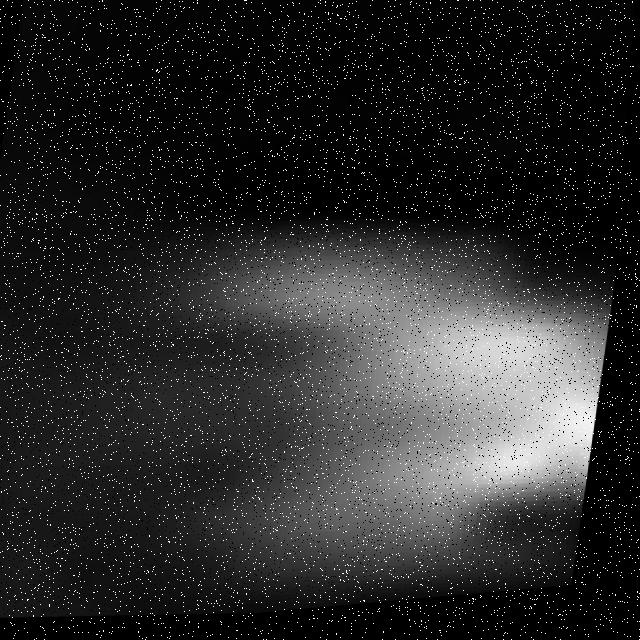person: (96, 237, 625, 596)
